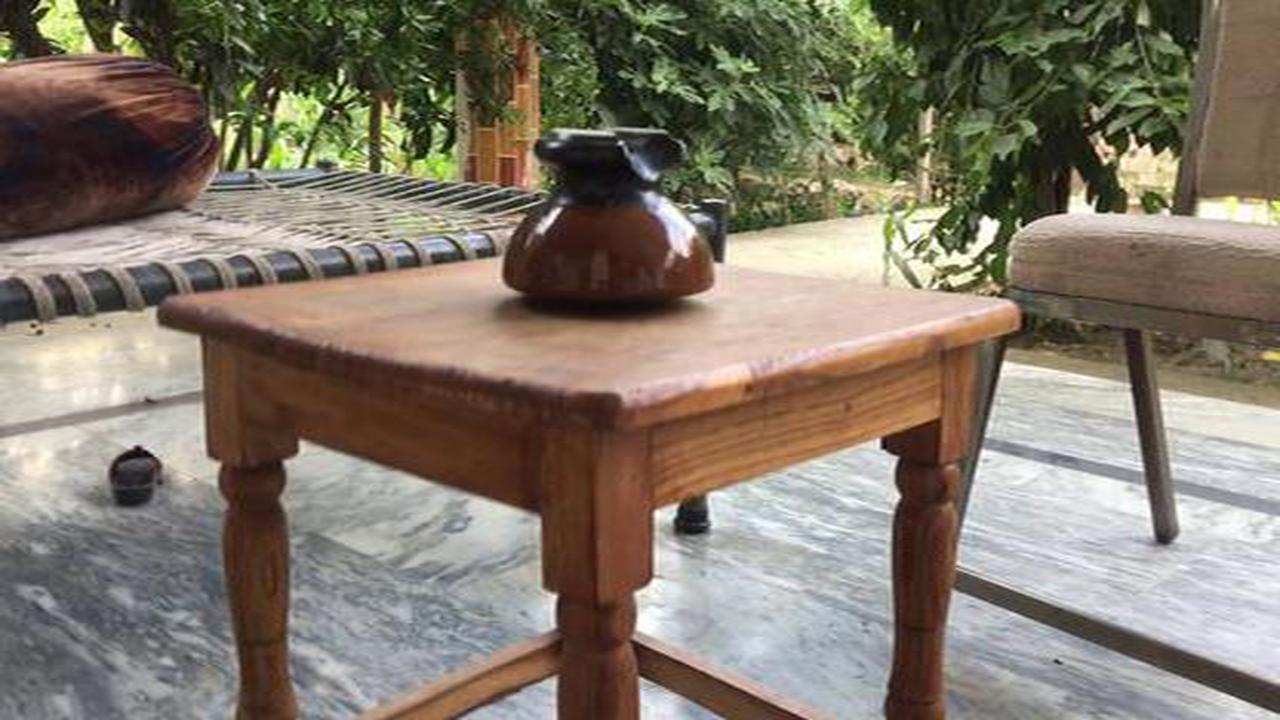insulator_pin: (477, 102, 730, 321)
